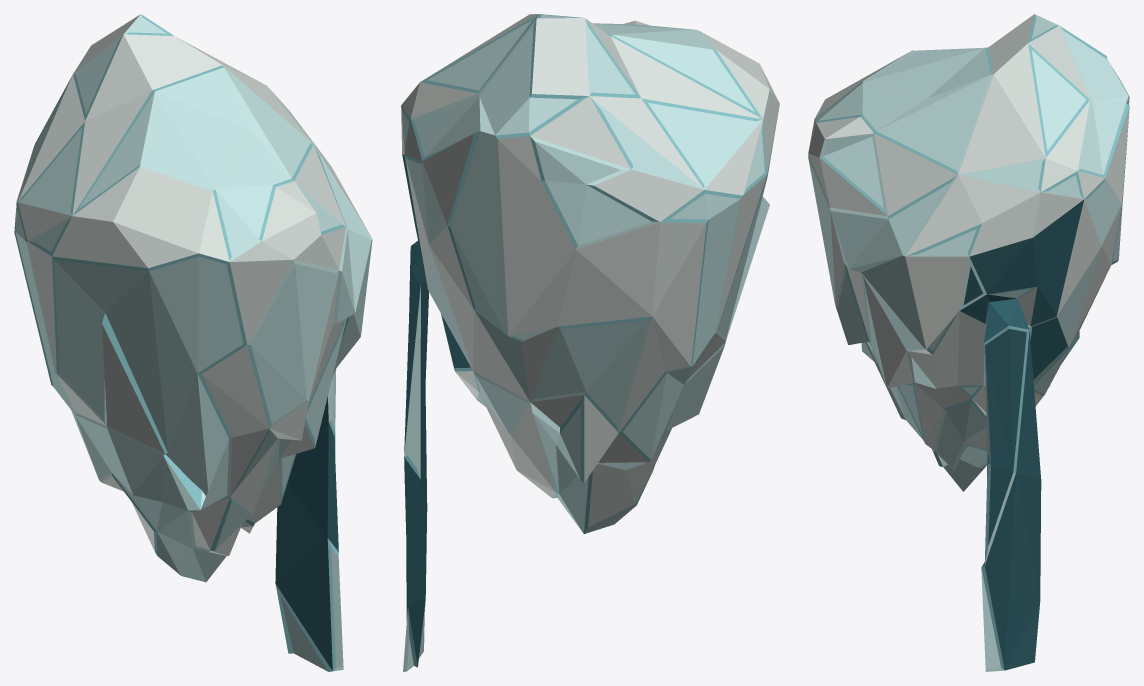
The model's file is PIESA.fbx.
The picture shows the model from 3 angles, left to right: view 1: azimuth 30°, elevation 25°; view 2: azimuth 150°, elevation 25°; view 3: azimuth 270°, elevation 25°; orthographic projection. The views are drawn at different scales.
Visible parts, largest first — view 1: IslaFlotanteHielo02; view 2: IslaFlotanteHielo02; view 3: IslaFlotanteHielo02.
Part boxes in pixels (x1=…): IslaFlotanteHielo02: x1=14, y1=14, x2=372, y2=671; IslaFlotanteHielo02: x1=401, y1=14, x2=779, y2=671; IslaFlotanteHielo02: x1=808, y1=14, x2=1129, y2=671.
Bounding box in the file's own units: 325 × 658 × 331.
